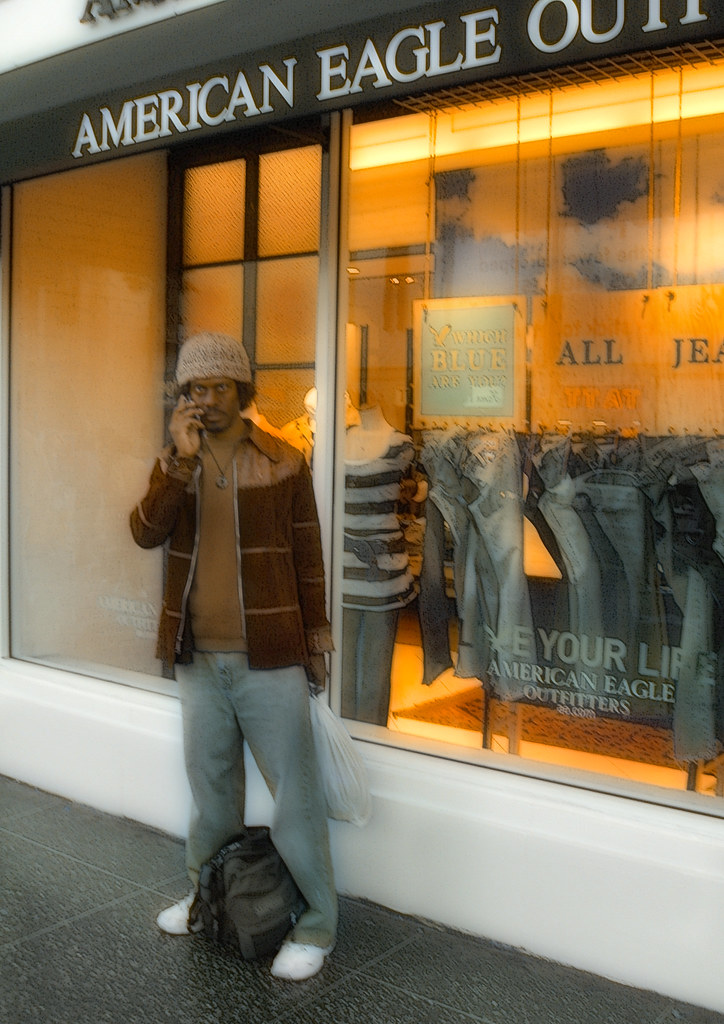phone: (168, 387, 210, 442)
talk: (158, 371, 236, 458)
